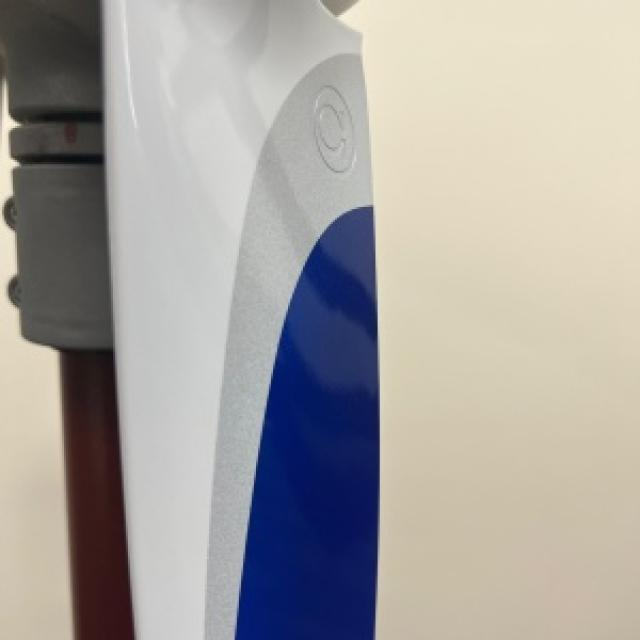healthy: (0, 0, 375, 638)
